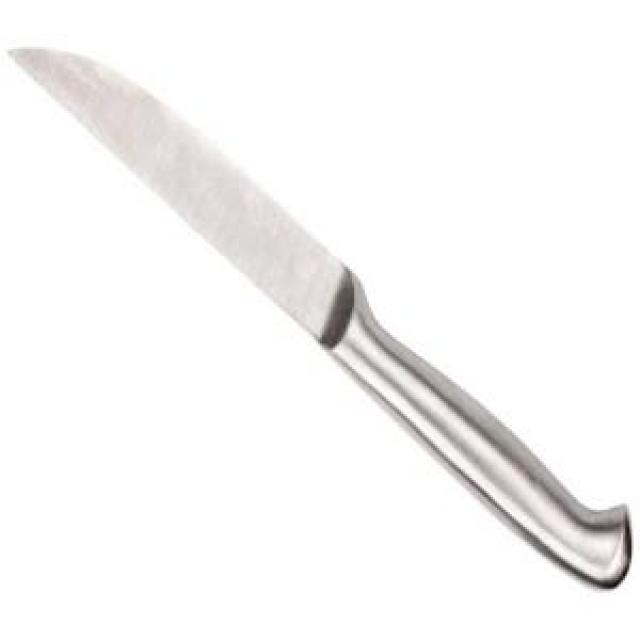knife: (11, 45, 636, 598)
